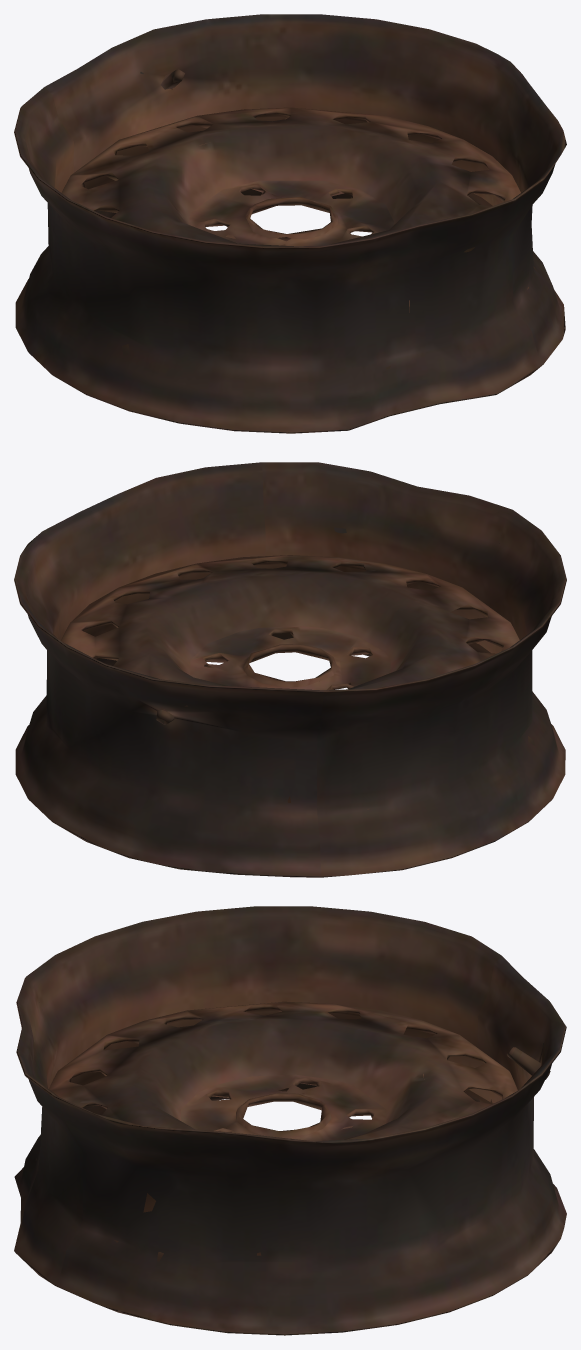
Rendered from wheel-rim.glb.
The picture shows the model from 3 angles, top to bottom: view 1: azimuth 30°, elevation 25°; view 2: azimuth 150°, elevation 25°; view 3: azimuth 270°, elevation 25°; orthographic projection. The views are drawn at different scales.
Parts seen in each view (by area): view 1: rusted_wheel_rim_01; view 2: rusted_wheel_rim_01; view 3: rusted_wheel_rim_01.
Boxes of the visible parts, x1,y1,x2,y2 form: rusted_wheel_rim_01: (14, 14, 566, 433); rusted_wheel_rim_01: (14, 462, 566, 877); rusted_wheel_rim_01: (14, 906, 566, 1335).
Size of the model in its own units: 0.4016 by 0.1539 by 0.3938.
1 material, 1 textured.
